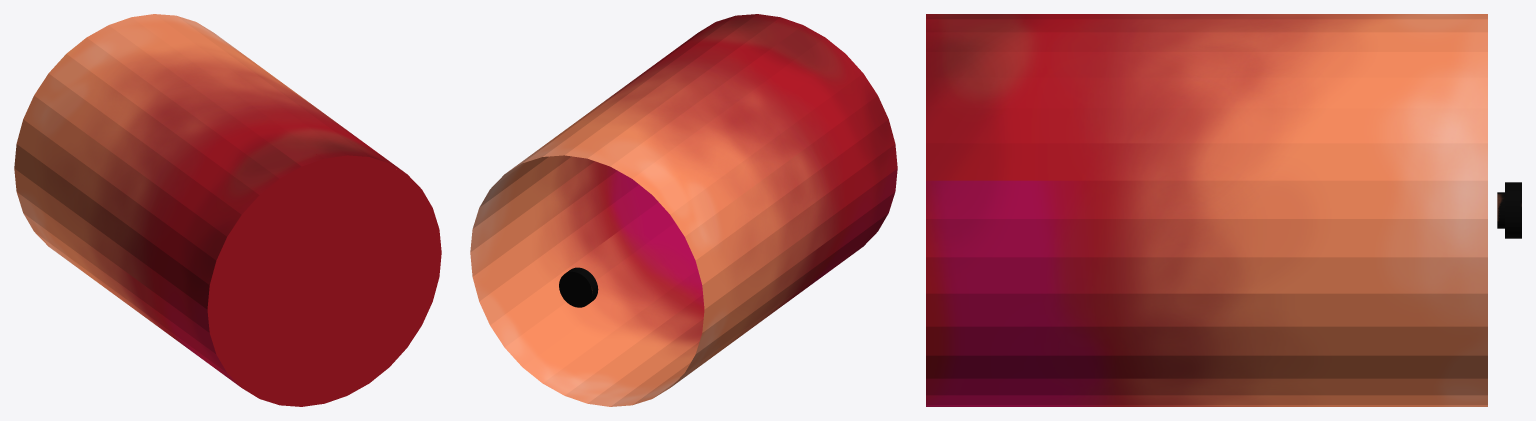
Rendered from lantern.obj.
3 renders of one model, left to right at view 1: azimuth 30°, elevation 25°; view 2: azimuth 150°, elevation 25°; view 3: azimuth 270°, elevation 25°, orthographic. The views are drawn at different scales.
Parts seen in each view (by area): view 1: Cylinder; view 2: Cylinder; view 3: Cylinder.
Part boxes in pixels (x1,y1,x2,y2): Cylinder: [14, 14, 441, 406]; Cylinder: [470, 14, 897, 406]; Cylinder: [926, 14, 1521, 406].
Size of the model in its own units: 1.4 by 1.4 by 2.12.
Materials: 1 (1 with a texture image).
